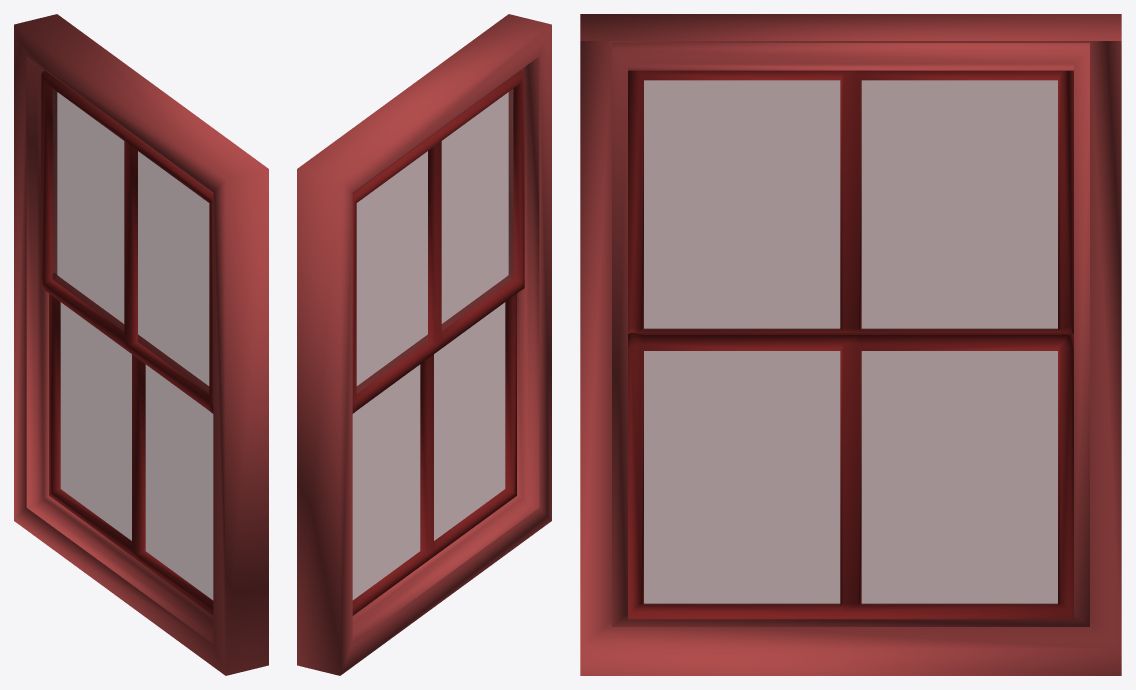
Rendered from Window_LP.FBX.
3 views of the same model, side by side, from view 1: azimuth 30°, elevation 25°; view 2: azimuth 150°, elevation 25°; view 3: azimuth 270°, elevation 25° (orthographic). The views are drawn at different scales.
Visible parts, largest first — view 1: Window_LP; view 2: Window_LP; view 3: Window_LP.
Boxes of the visible parts, bbox=[...] form: Window_LP: bbox=[14, 14, 268, 675]; Window_LP: bbox=[297, 14, 551, 675]; Window_LP: bbox=[580, 14, 1121, 675].
Bounding box in the file's own units: 20 × 220 × 170.
